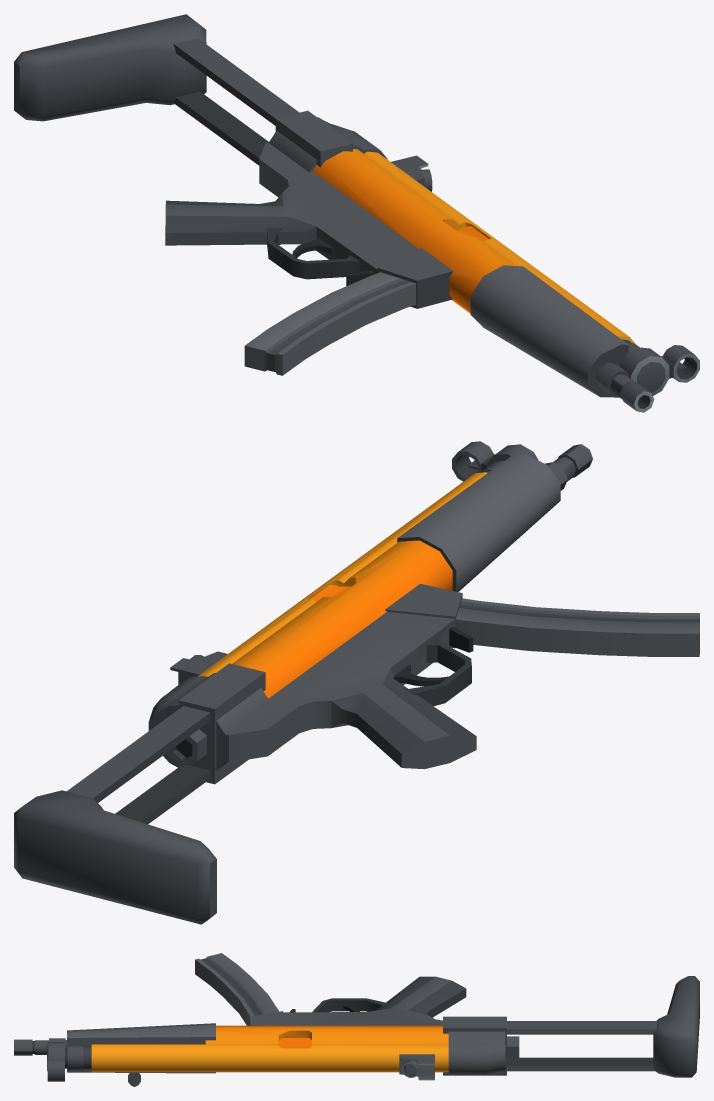
The model's file is PP_LVL1.fbx.
3 views of the same model, one above another, from view 1: azimuth 30°, elevation 25°; view 2: azimuth 150°, elevation 25°; view 3: azimuth 270°, elevation 25° (orthographic). The views are drawn at different scales.
Visible parts, largest first — view 1: Object007; view 2: Object007; view 3: Object007.
Part boxes in pixels (<box>): Object007: <box>14,14,699,412</box>; Object007: <box>14,441,699,924</box>; Object007: <box>14,953,699,1086</box>.
Bounding box in the file's own units: 45.2 × 9 × 114.
